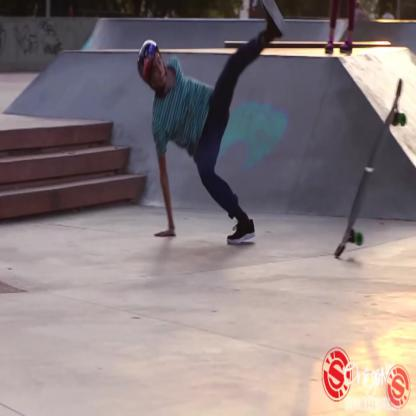Fall_Down: (136, 0, 290, 249)
